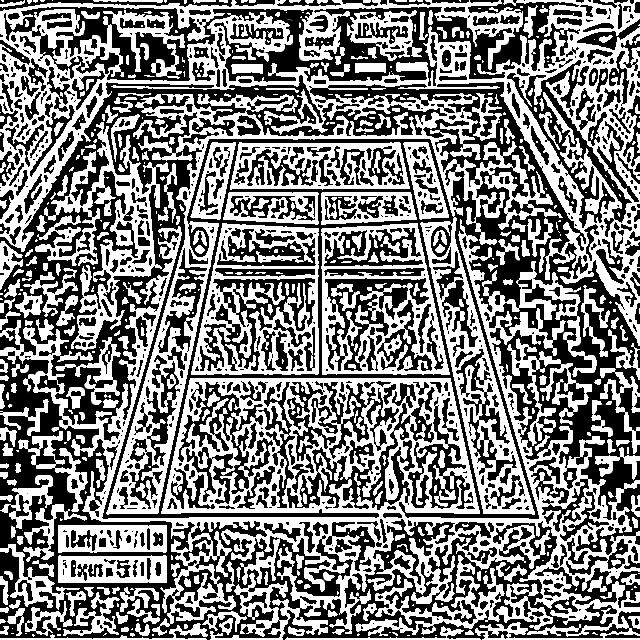left side: (401, 140, 538, 517), (104, 141, 239, 517)
player: (368, 425, 415, 550), (296, 74, 322, 124)
